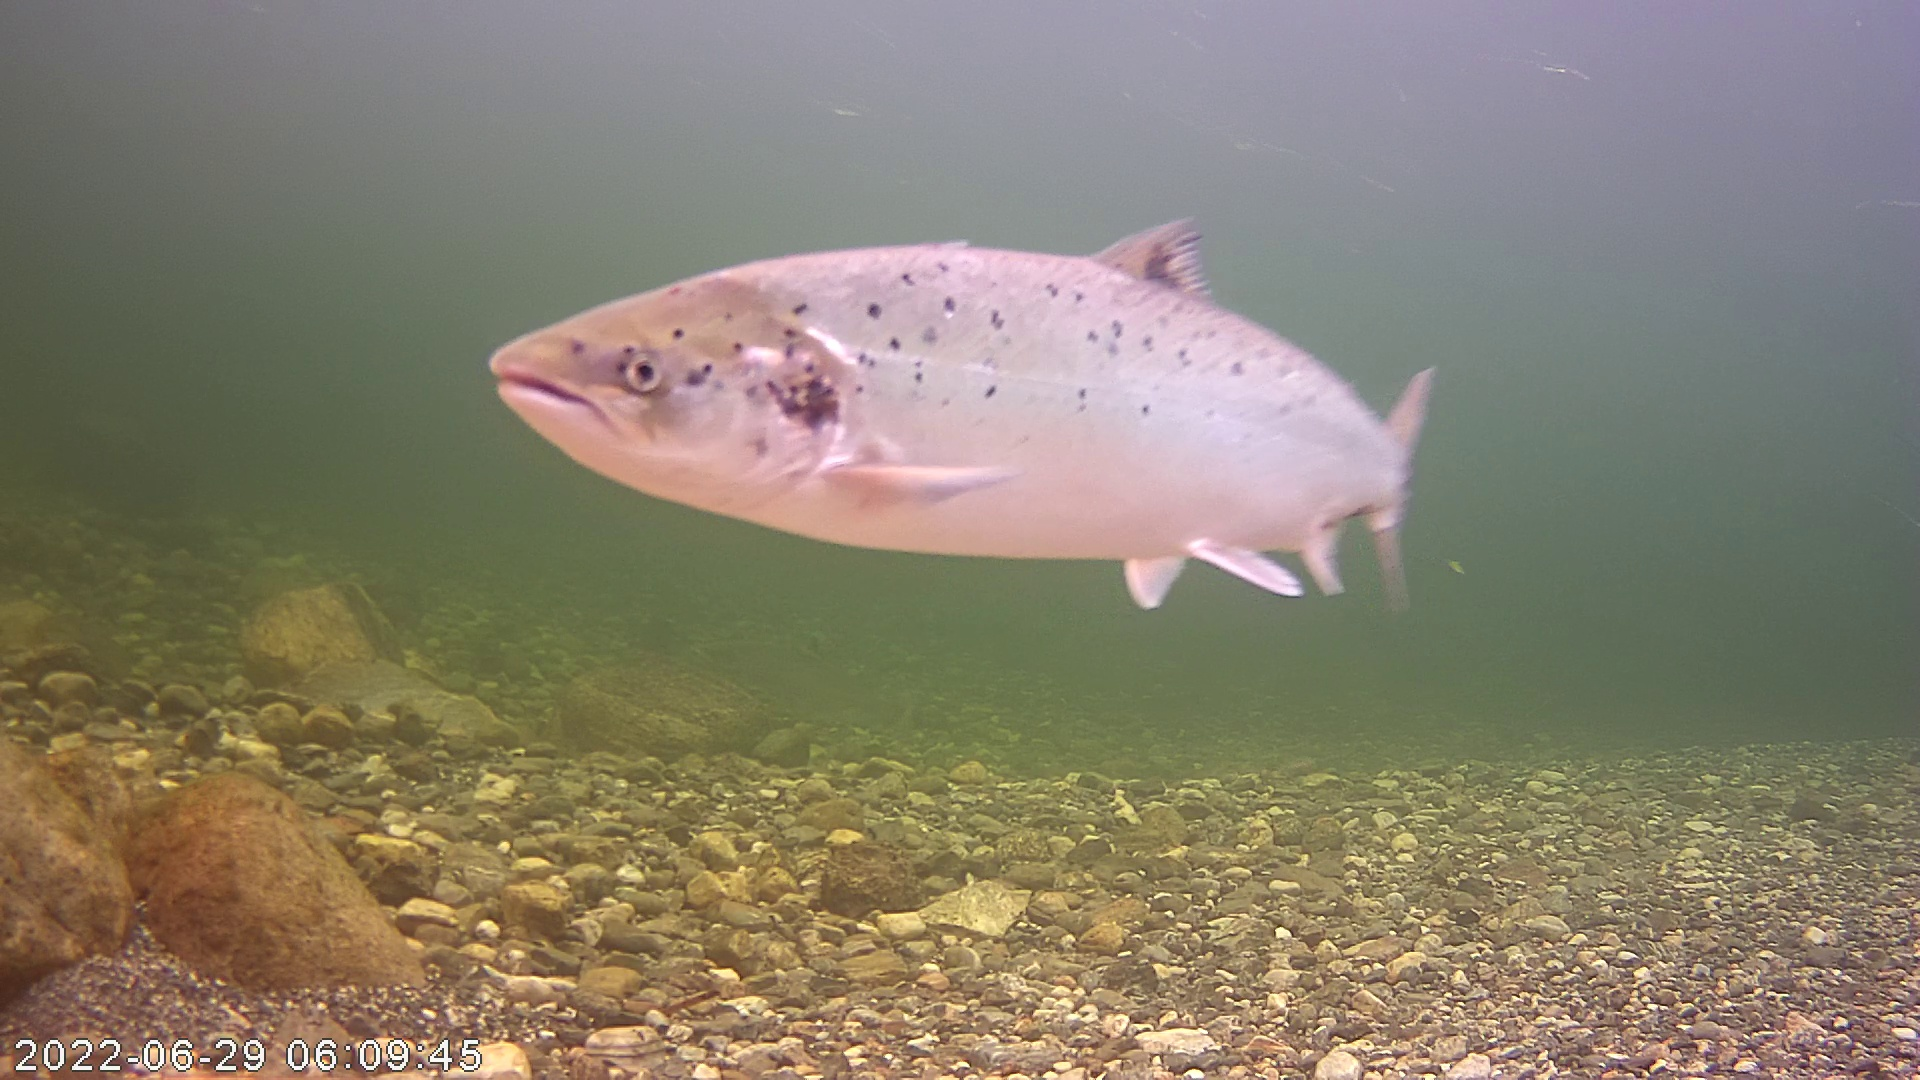salmon: (475, 67, 1447, 601)
